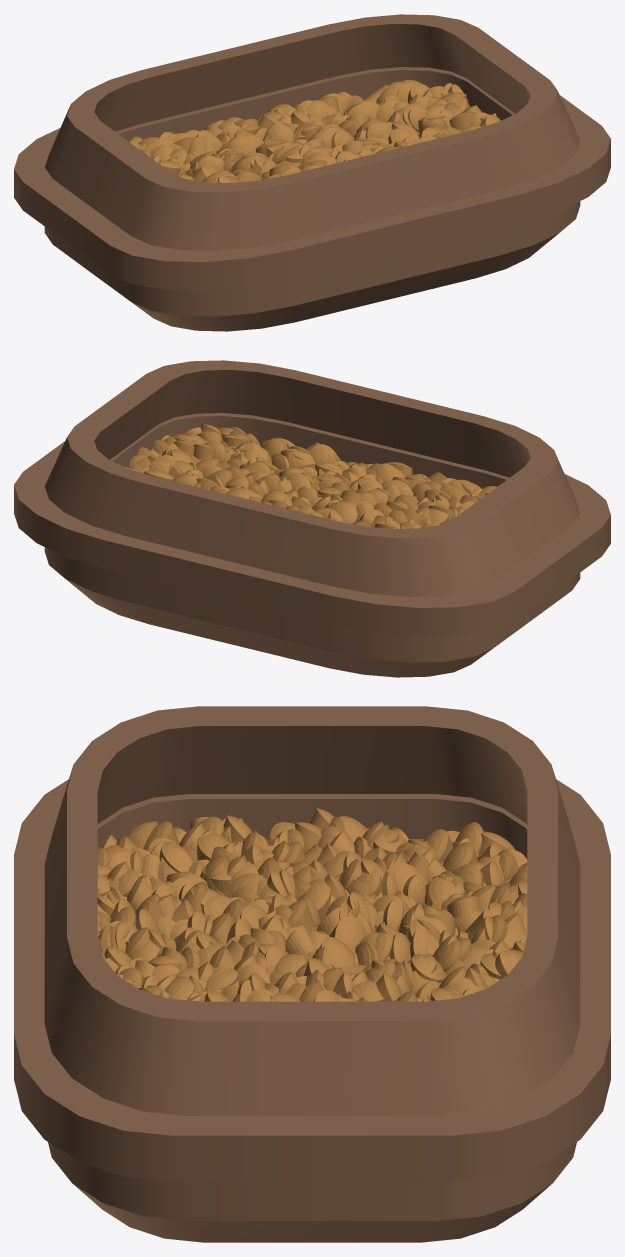
The model's file is cat tilet ver1 in suna.fbx.
3 views of the same model, one above another, from view 1: azimuth 30°, elevation 25°; view 2: azimuth 150°, elevation 25°; view 3: azimuth 270°, elevation 25° (orthographic). The views are drawn at different scales.
Parts seen in each view (by area): view 1: ue, sita; view 2: ue, sita; view 3: ue, sita, suna|球|Dupli|828, suna|球|Dupli|599.
Boxes of the visible parts, x1,y1,x2,y2 form: ue: [14, 14, 610, 290]; sita: [44, 67, 580, 331]; ue: [14, 360, 610, 636]; sita: [44, 413, 580, 677]; ue: [14, 706, 610, 1181]; sita: [48, 794, 576, 1242]; suna|球|Dupli|828: [320, 936, 356, 972]; suna|球|Dupli|599: [329, 916, 367, 948].
Bounding box in the file's own units: 255 × 70.95 × 168.
